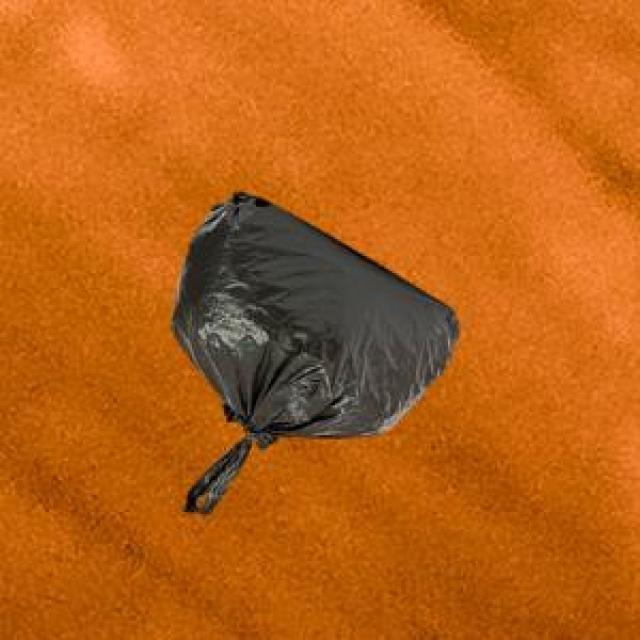waste: (172, 192, 458, 512)
